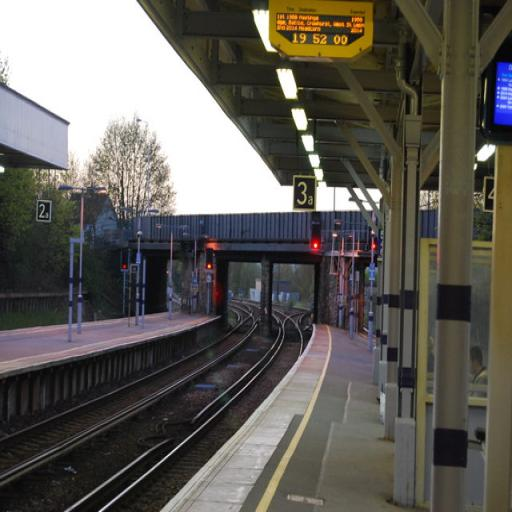platform_edge: (180, 332, 342, 506)
